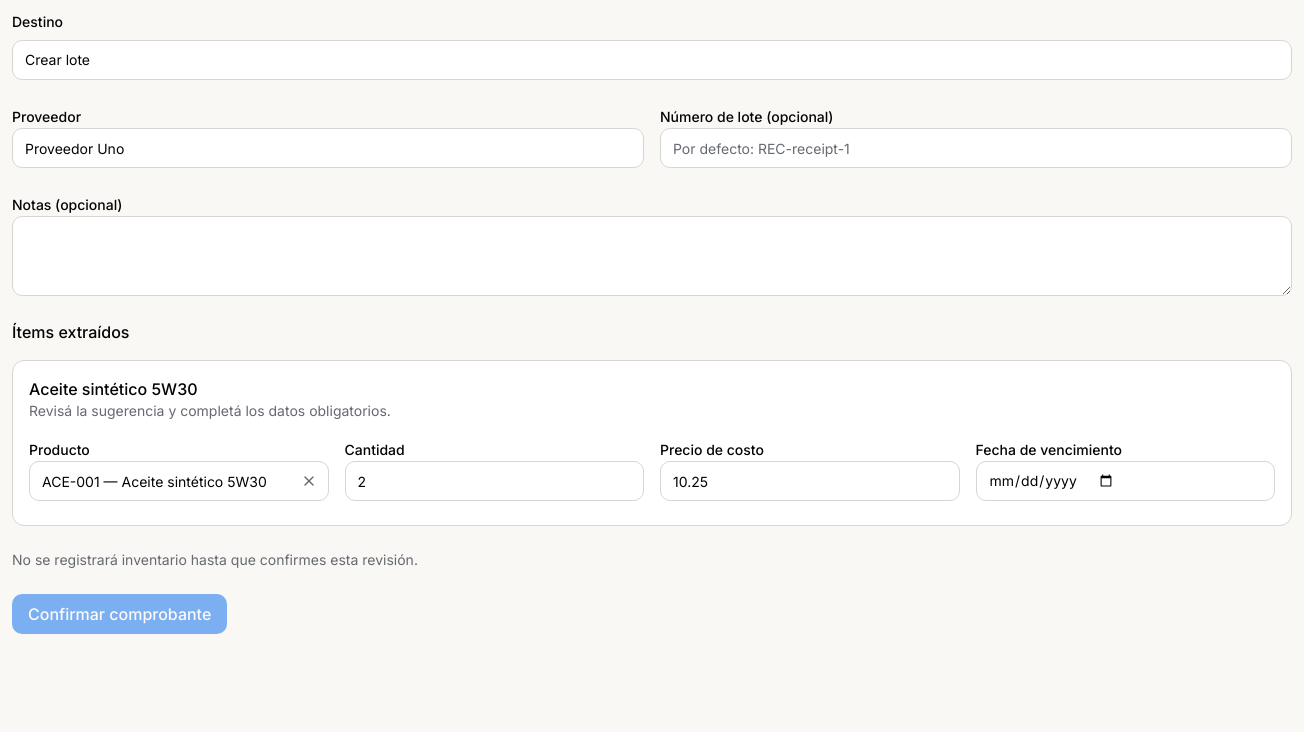
it: ReceiptReviewForm confirmation guards › requires each OCR line to be mapped to a purchase-order line
This screenshot has width=1304, height=732.
Select "Adjuntar a Orden de Compra" in the dropdown labelled "Destino" at (652, 60), box left=12, top=40, right=1292, bottom=80
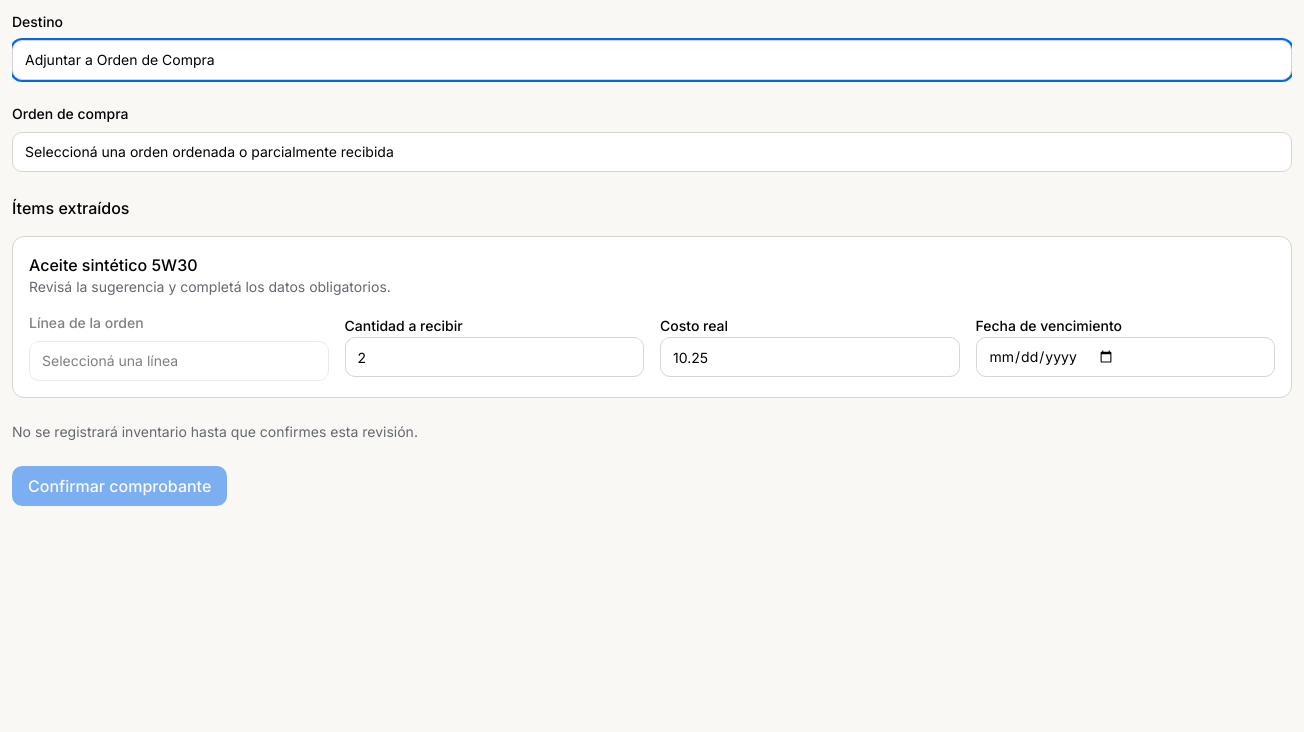
Select "COM-2026-000001 — Proveedor Uno" in the dropdown labelled "Orden de compra" at (652, 152), box left=12, top=132, right=1292, bottom=172
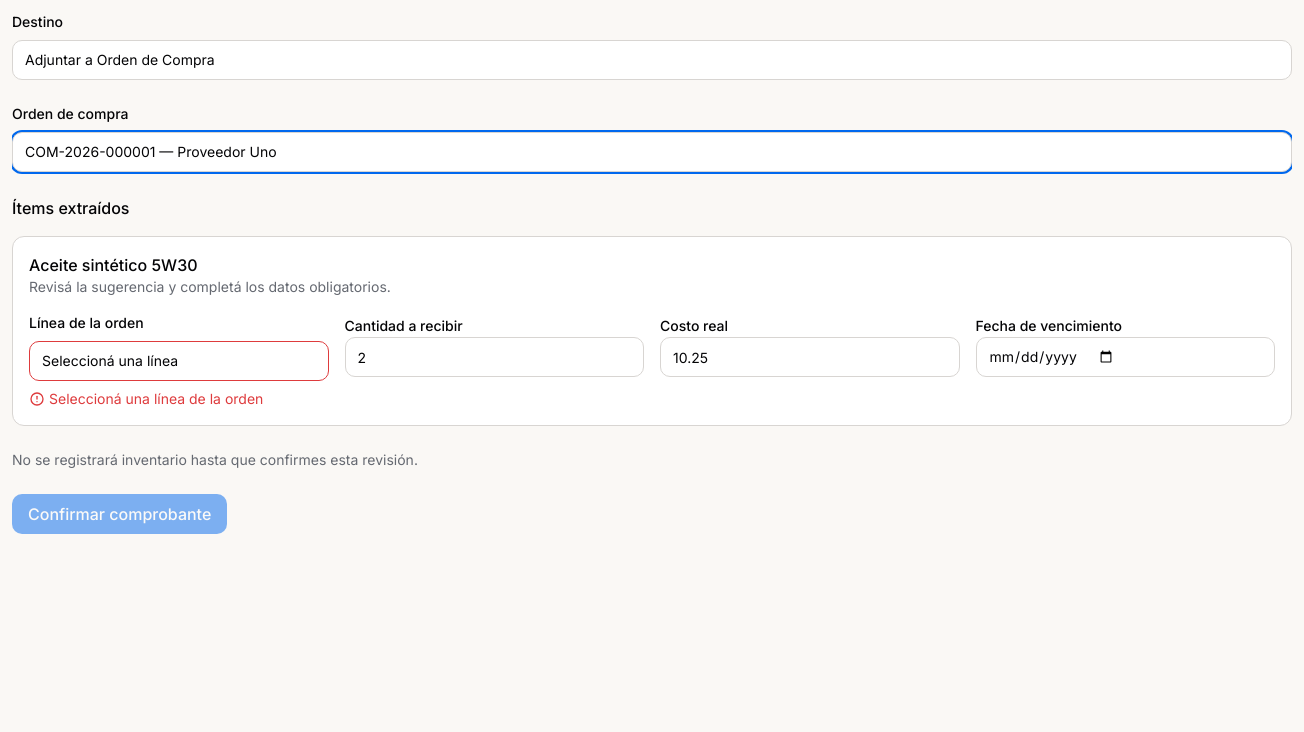
Type "2027-01-31" into the date field labelled "Fecha de vencimiento" at (1125, 357), box left=976, top=337, right=1275, bottom=377
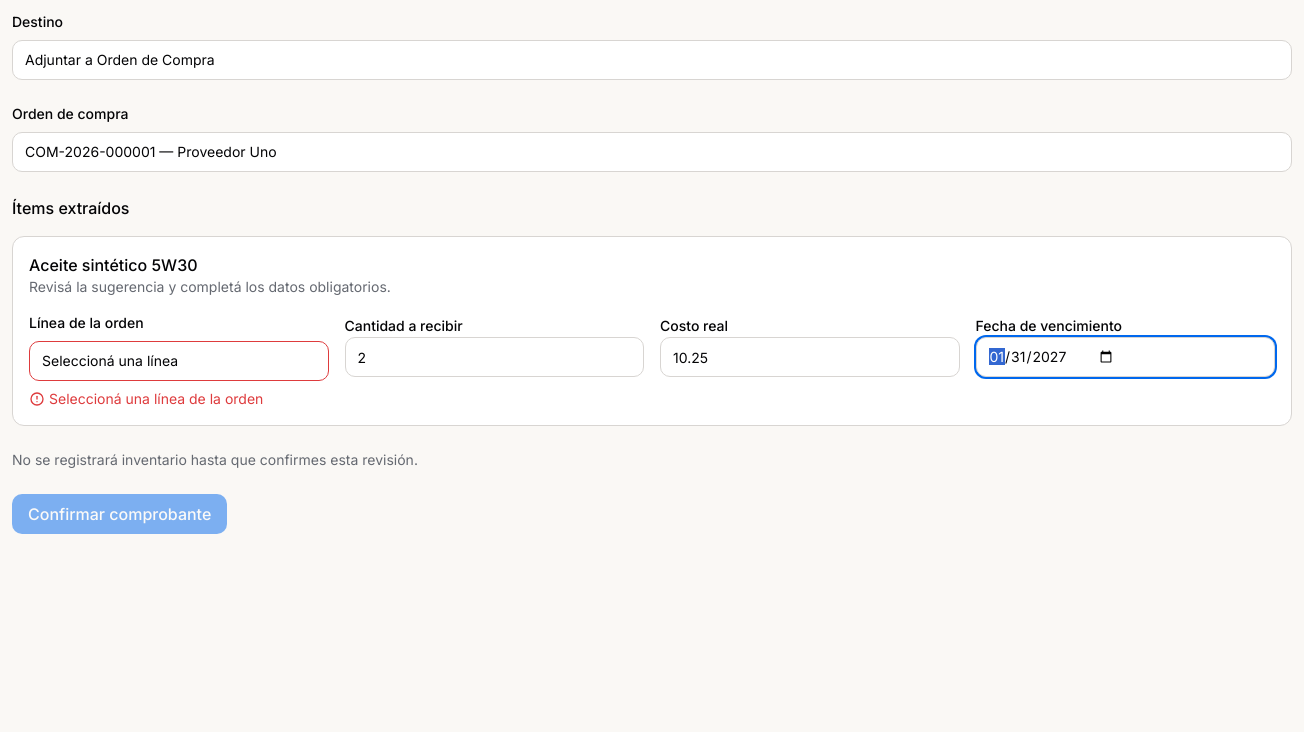
Expected: the button "Confirmar comprobante" is disabled, left=12, top=494, right=227, bottom=534
Select "Aceite sintético 5W30 — Pedidas: 8 — Pendientes: 5" in the dropdown labelled "Línea de la orden" at (179, 361), box left=29, top=341, right=328, bottom=381
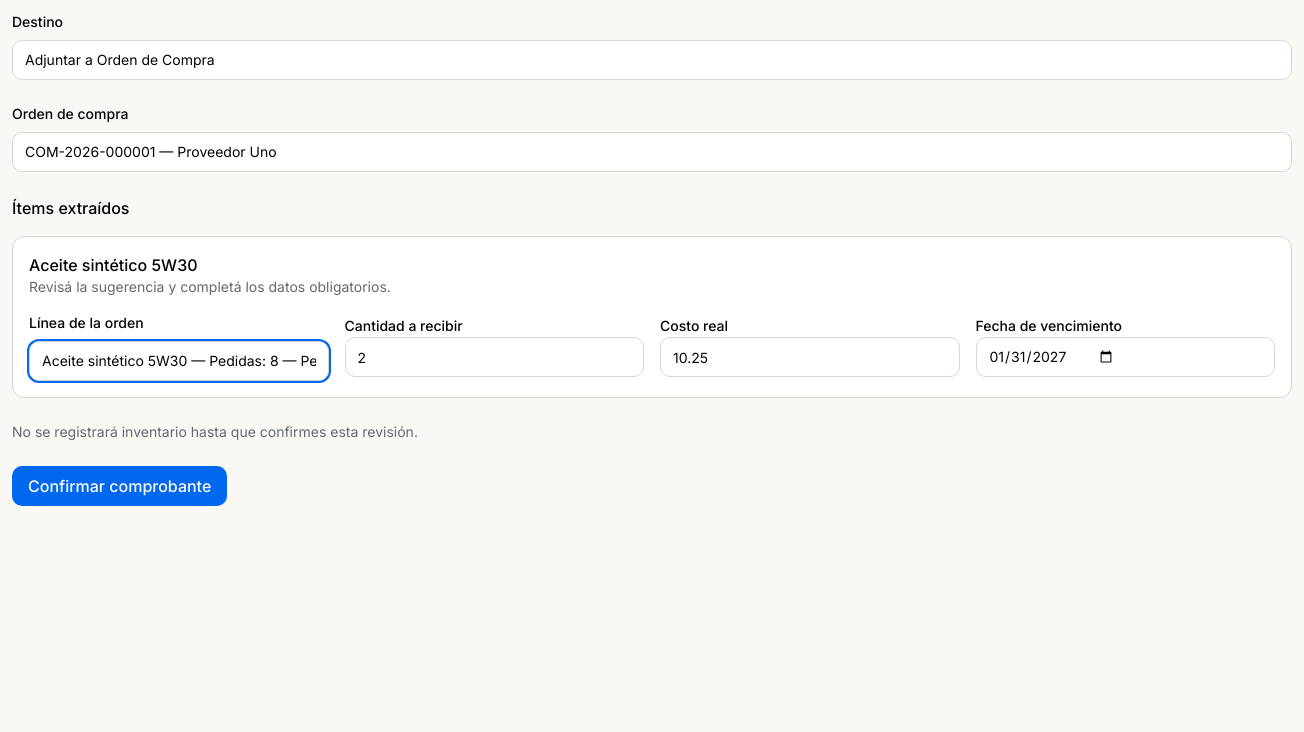
Result: the button "Confirmar comprobante" is enabled at left=12, top=466, right=227, bottom=506
